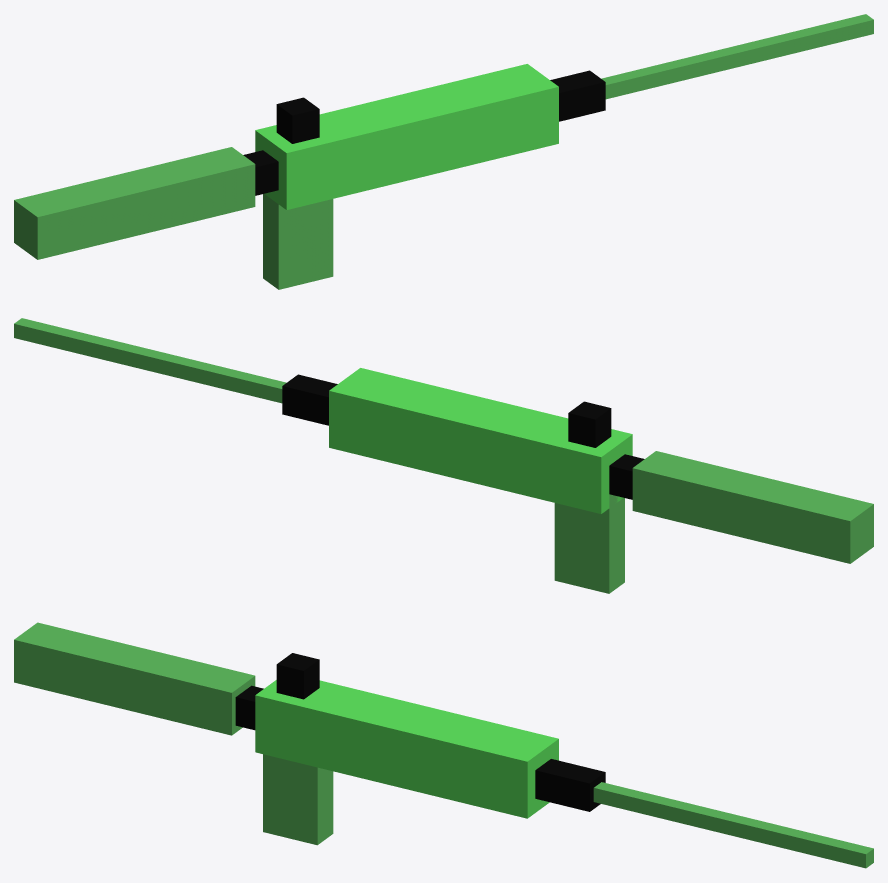
File: green.glb
The picture shows the model from 3 angles, top to bottom: view 1: azimuth 30°, elevation 25°; view 2: azimuth 150°, elevation 25°; view 3: azimuth 330°, elevation 25°; orthographic projection.
Visible parts, largest first — view 1: MainBody, Stock, Barrel, Handle, BarrelConnector, HandleConnector, StockConnector; view 2: MainBody, Stock, Barrel, Handle, BarrelConnector, HandleConnector, StockConnector; view 3: MainBody, Stock, Barrel, Handle, BarrelConnector, HandleConnector, StockConnector.
Part boxes in pixels (bbox=[...]): MainBody: bbox=[255, 64, 558, 209]; Stock: bbox=[14, 147, 255, 259]; Barrel: bbox=[601, 14, 873, 99]; Handle: bbox=[263, 194, 333, 289]; BarrelConnector: bbox=[550, 70, 605, 121]; HandleConnector: bbox=[276, 97, 319, 143]; StockConnector: bbox=[243, 150, 278, 195]; MainBody: bbox=[329, 368, 632, 513]; Stock: bbox=[632, 451, 873, 563]; Barrel: bbox=[14, 318, 286, 403]; Handle: bbox=[554, 494, 624, 593]; BarrelConnector: bbox=[282, 374, 337, 425]; HandleConnector: bbox=[568, 401, 611, 447]; StockConnector: bbox=[609, 454, 644, 499]; MainBody: bbox=[255, 680, 558, 818]; Stock: bbox=[14, 622, 255, 735]; Barrel: bbox=[593, 782, 873, 868]; Handle: bbox=[263, 754, 333, 845]; BarrelConnector: bbox=[535, 759, 605, 811]; HandleConnector: bbox=[276, 653, 319, 699]; StockConnector: bbox=[235, 685, 263, 730].
Size of the model in its own units: 3.1 by 0.6 by 0.2.
